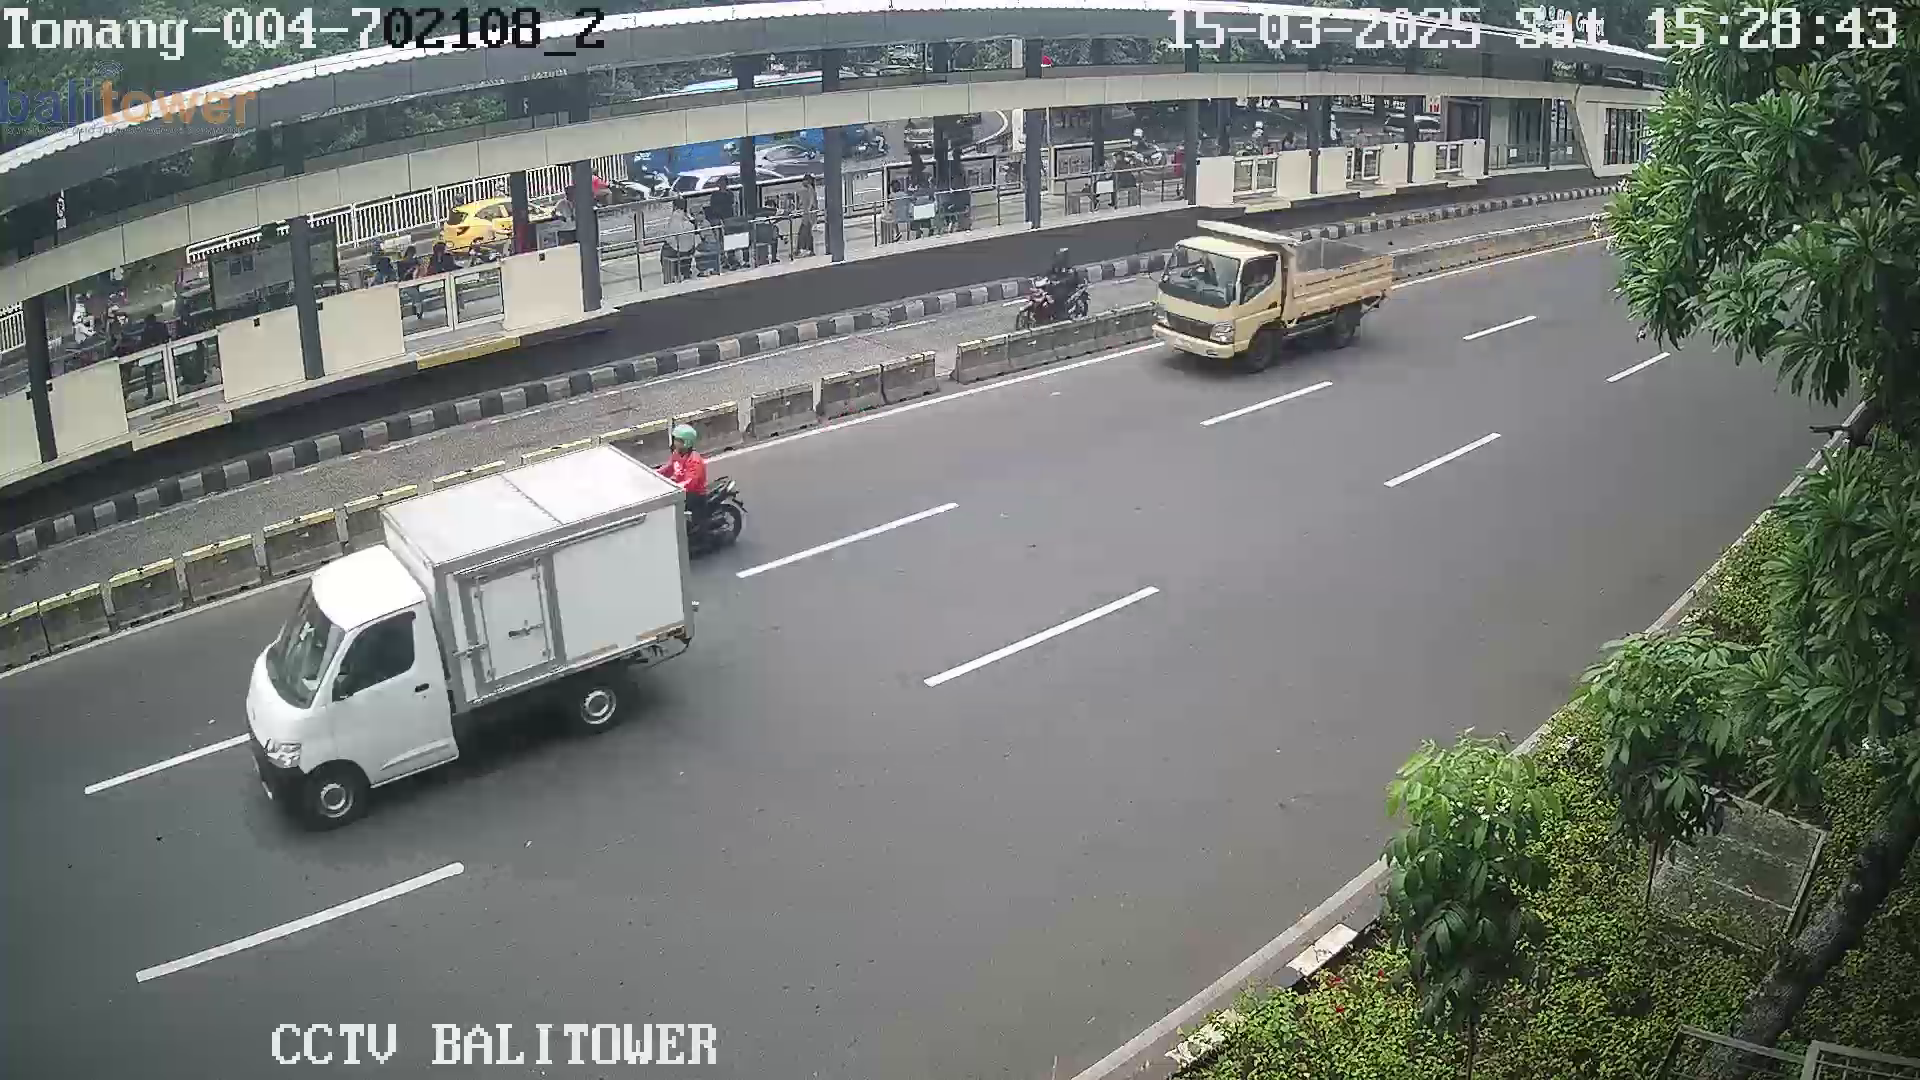half-face helmet: (668, 426, 708, 455)
